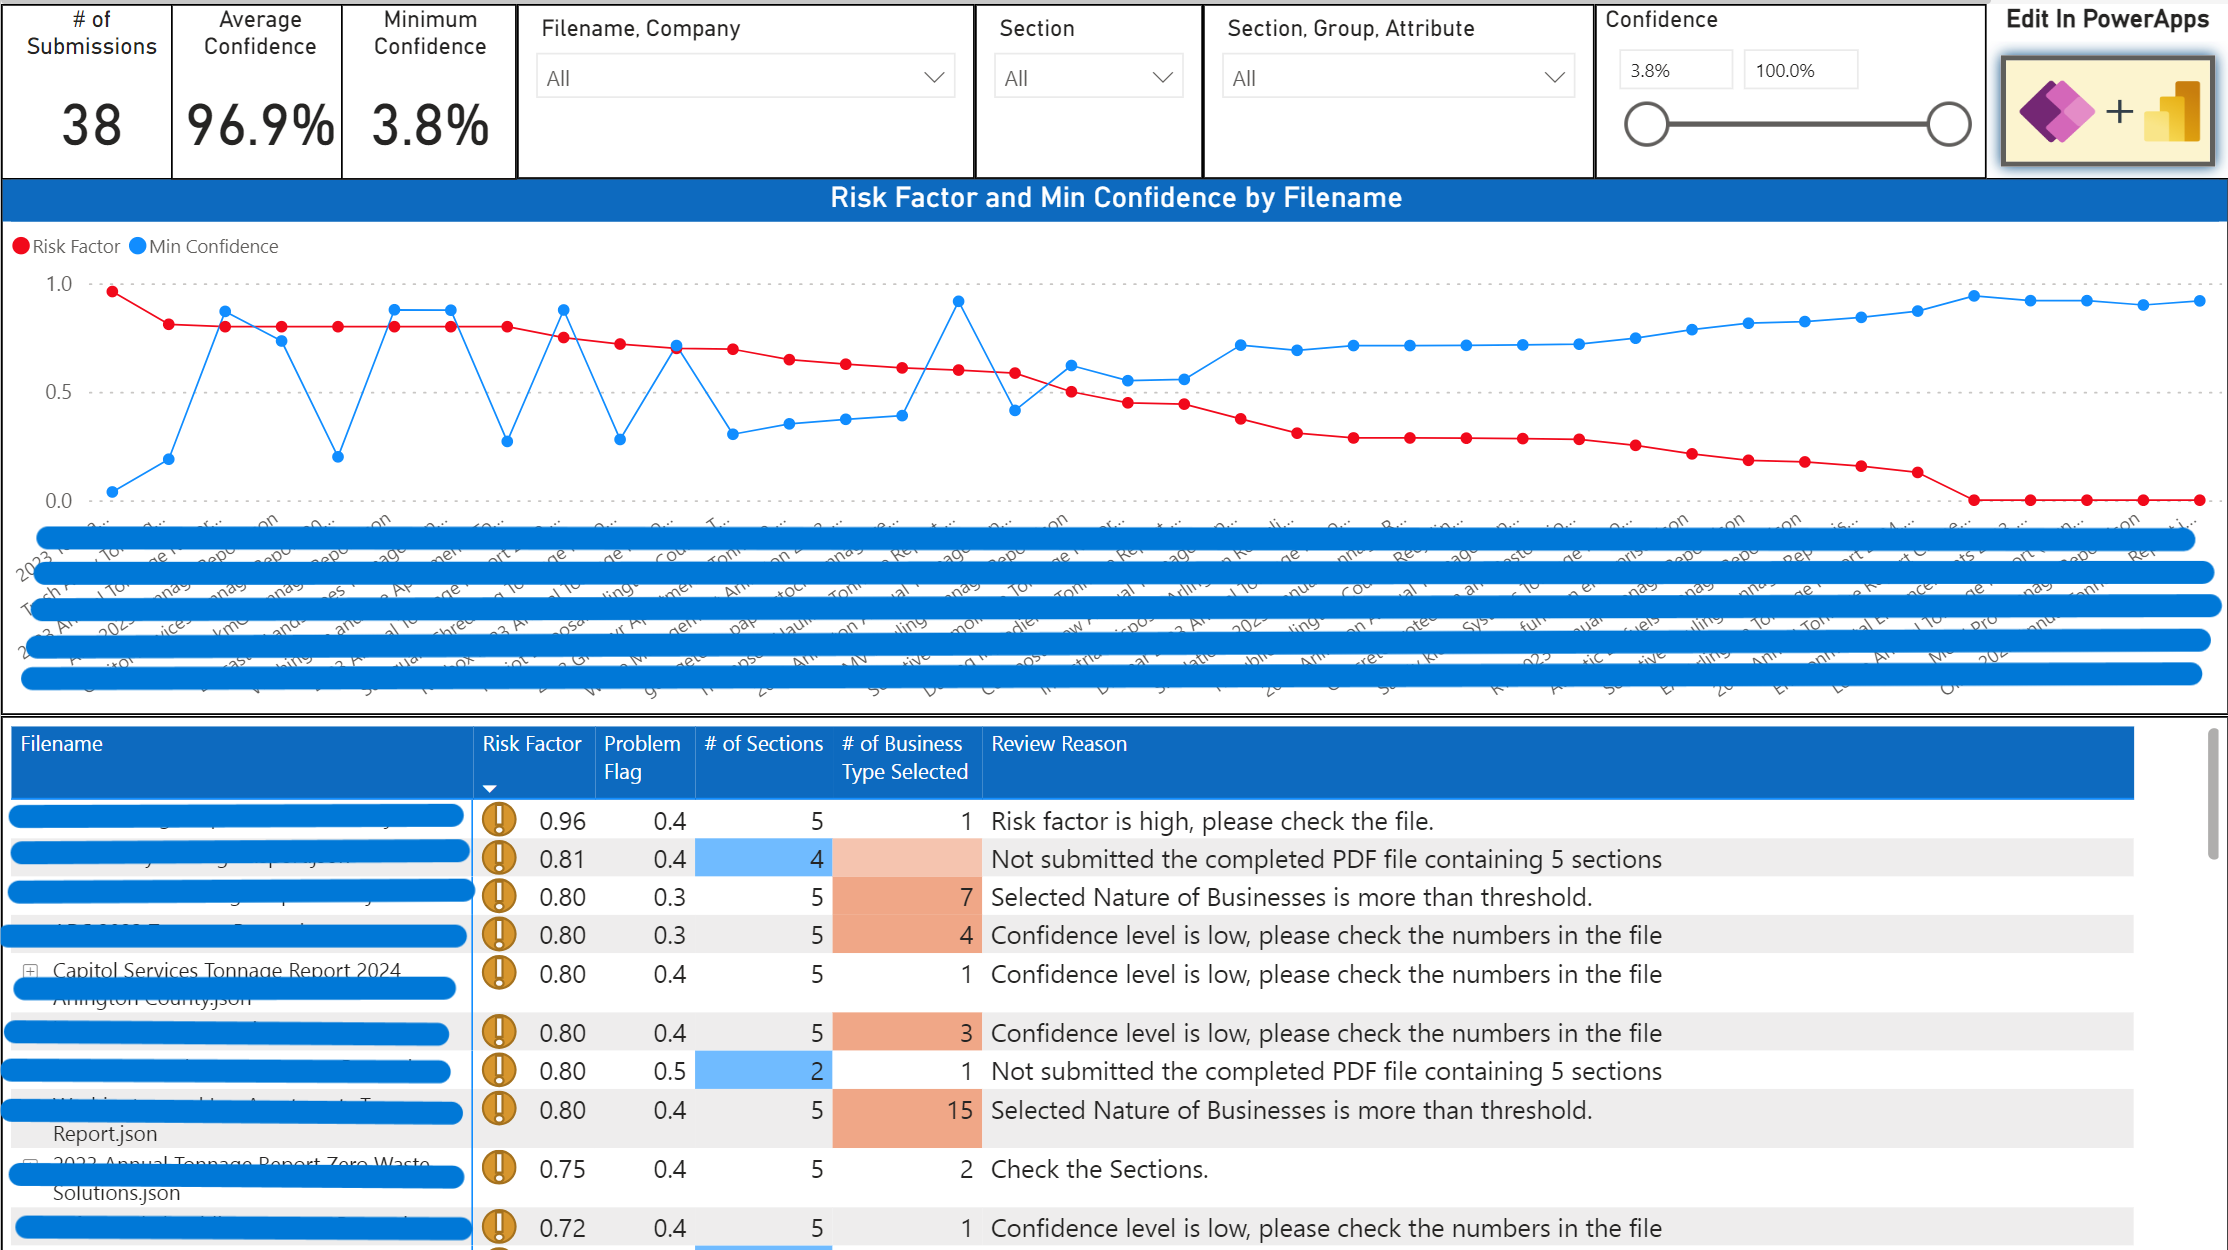

The dashboard page shown, as its layout file describes it:
{"tool":"powerbi","page":{"name":"Summary","canvas":[1280,720],"ordinal":0},"visuals":[{"type":"pivotTable","title":"Confidence by Filename","fields":{"Rows":["SectionsUnpivot.Filename","SectionsUnpivot.Section","SectionsUnpivot.Attribute","SectionsUnpivot.Value"],"Values":["SectionsUnpivot._ProblemFlag","SectionsUnpivot.ProblemFlag","SectionBCDE-Confidence._SectionCt","SectionsUnpivot._BusinessTypeSelected","SectionsUnpivot.Review"]},"box":[0,409.1,1280.2,311.3],"z":0},{"type":"card","title":"# of Submissions","fields":{"Values":["SectionA.Filename"]},"box":[0,0,102.3,101.2],"z":1000},{"type":"lineChart","fields":{"Category":["SectionsUnpivot.Filename","SectionsUnpivot._CompanyName","SectionsUnpivot.Attribute"],"Y":["SectionsUnpivot._HighRiskFlag","SectionsUnpivot._ConfidenceMin"]},"box":[0,100.5,1280.2,308.6],"z":2000},{"type":"card","title":"Average Confidence","fields":{"Values":["SectionsUnpivot.Confidence"]},"box":[97.3,0,100.8,100.8],"z":3000},{"type":"card","title":"Minimum Confidence","fields":{"Values":["SectionsUnpivot.Confidence"]},"box":[195.7,0,100.8,100.8],"z":4000},{"type":"slicer","fields":{"Values":["SectionsUnpivot.Filename","SectionsUnpivot._CompanyName"]},"box":[296.9,0,262.9,100.5],"z":5000},{"type":"slicer","fields":{"Values":["SectionsUnpivot.Section","SectionsUnpivot.Attribute Group","SectionsUnpivot.Attribute"]},"box":[690.8,0,225.2,100.5],"z":6000},{"type":"slicer","title":"Confidence","fields":{"Values":["SectionsUnpivot.Confidence"]},"box":[916,0,225.2,100.5],"z":7000},{"type":"slicer","fields":{"Values":["SectionsUnpivot.Section"]},"box":[559.8,0,131,100.5],"z":8000},{"type":"actionButton","title":"Edit In PowerApps","box":[1141.1,0,139.1,101.4],"z":9000}]}

Visuals, with their boxes in screenshot pixels (x1, y1, x2, y2), scaled from the page's 1280x720 canvas onto the 2228x1250 screenshot:
"Confidence by Filename" pivotTable: <bbox>0, 710, 2227, 1249</bbox>
"# of Submissions" card: <bbox>0, 0, 178, 176</bbox>
lineChart - SectionsUnpivot.Filename x SectionsUnpivot._CompanyName: <bbox>0, 174, 2227, 710</bbox>
"Average Confidence" card: <bbox>169, 0, 345, 175</bbox>
"Minimum Confidence" card: <bbox>341, 0, 516, 175</bbox>
slicer - SectionsUnpivot.Filename x SectionsUnpivot._CompanyName: <bbox>517, 0, 974, 174</bbox>
slicer - SectionsUnpivot.Section x SectionsUnpivot.Attribute Group: <bbox>1202, 0, 1594, 174</bbox>
"Confidence" slicer: <bbox>1594, 0, 1986, 174</bbox>
slicer - SectionsUnpivot.Section: <bbox>974, 0, 1202, 174</bbox>
"Edit In PowerApps" actionButton: <bbox>1986, 0, 2227, 176</bbox>
